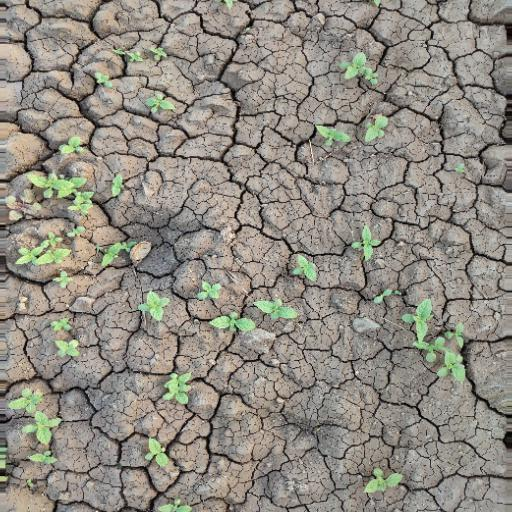crop: (13, 136, 128, 292), (400, 291, 476, 389), (6, 371, 67, 486), (195, 280, 302, 344), (138, 366, 193, 473), (354, 458, 409, 507), (311, 119, 353, 157), (336, 54, 384, 85), (348, 221, 383, 263), (140, 89, 181, 115), (359, 112, 390, 146)
